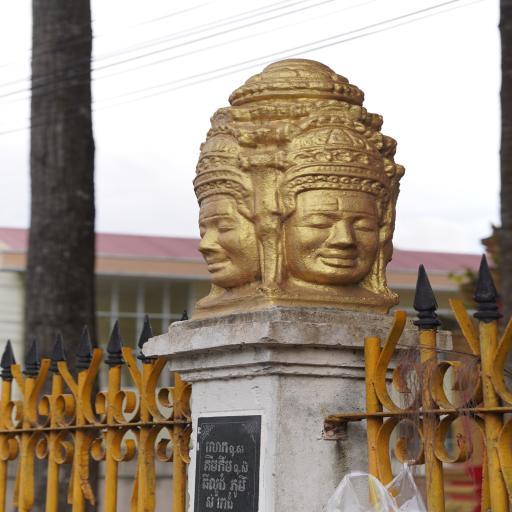than: (188, 31, 414, 323)
